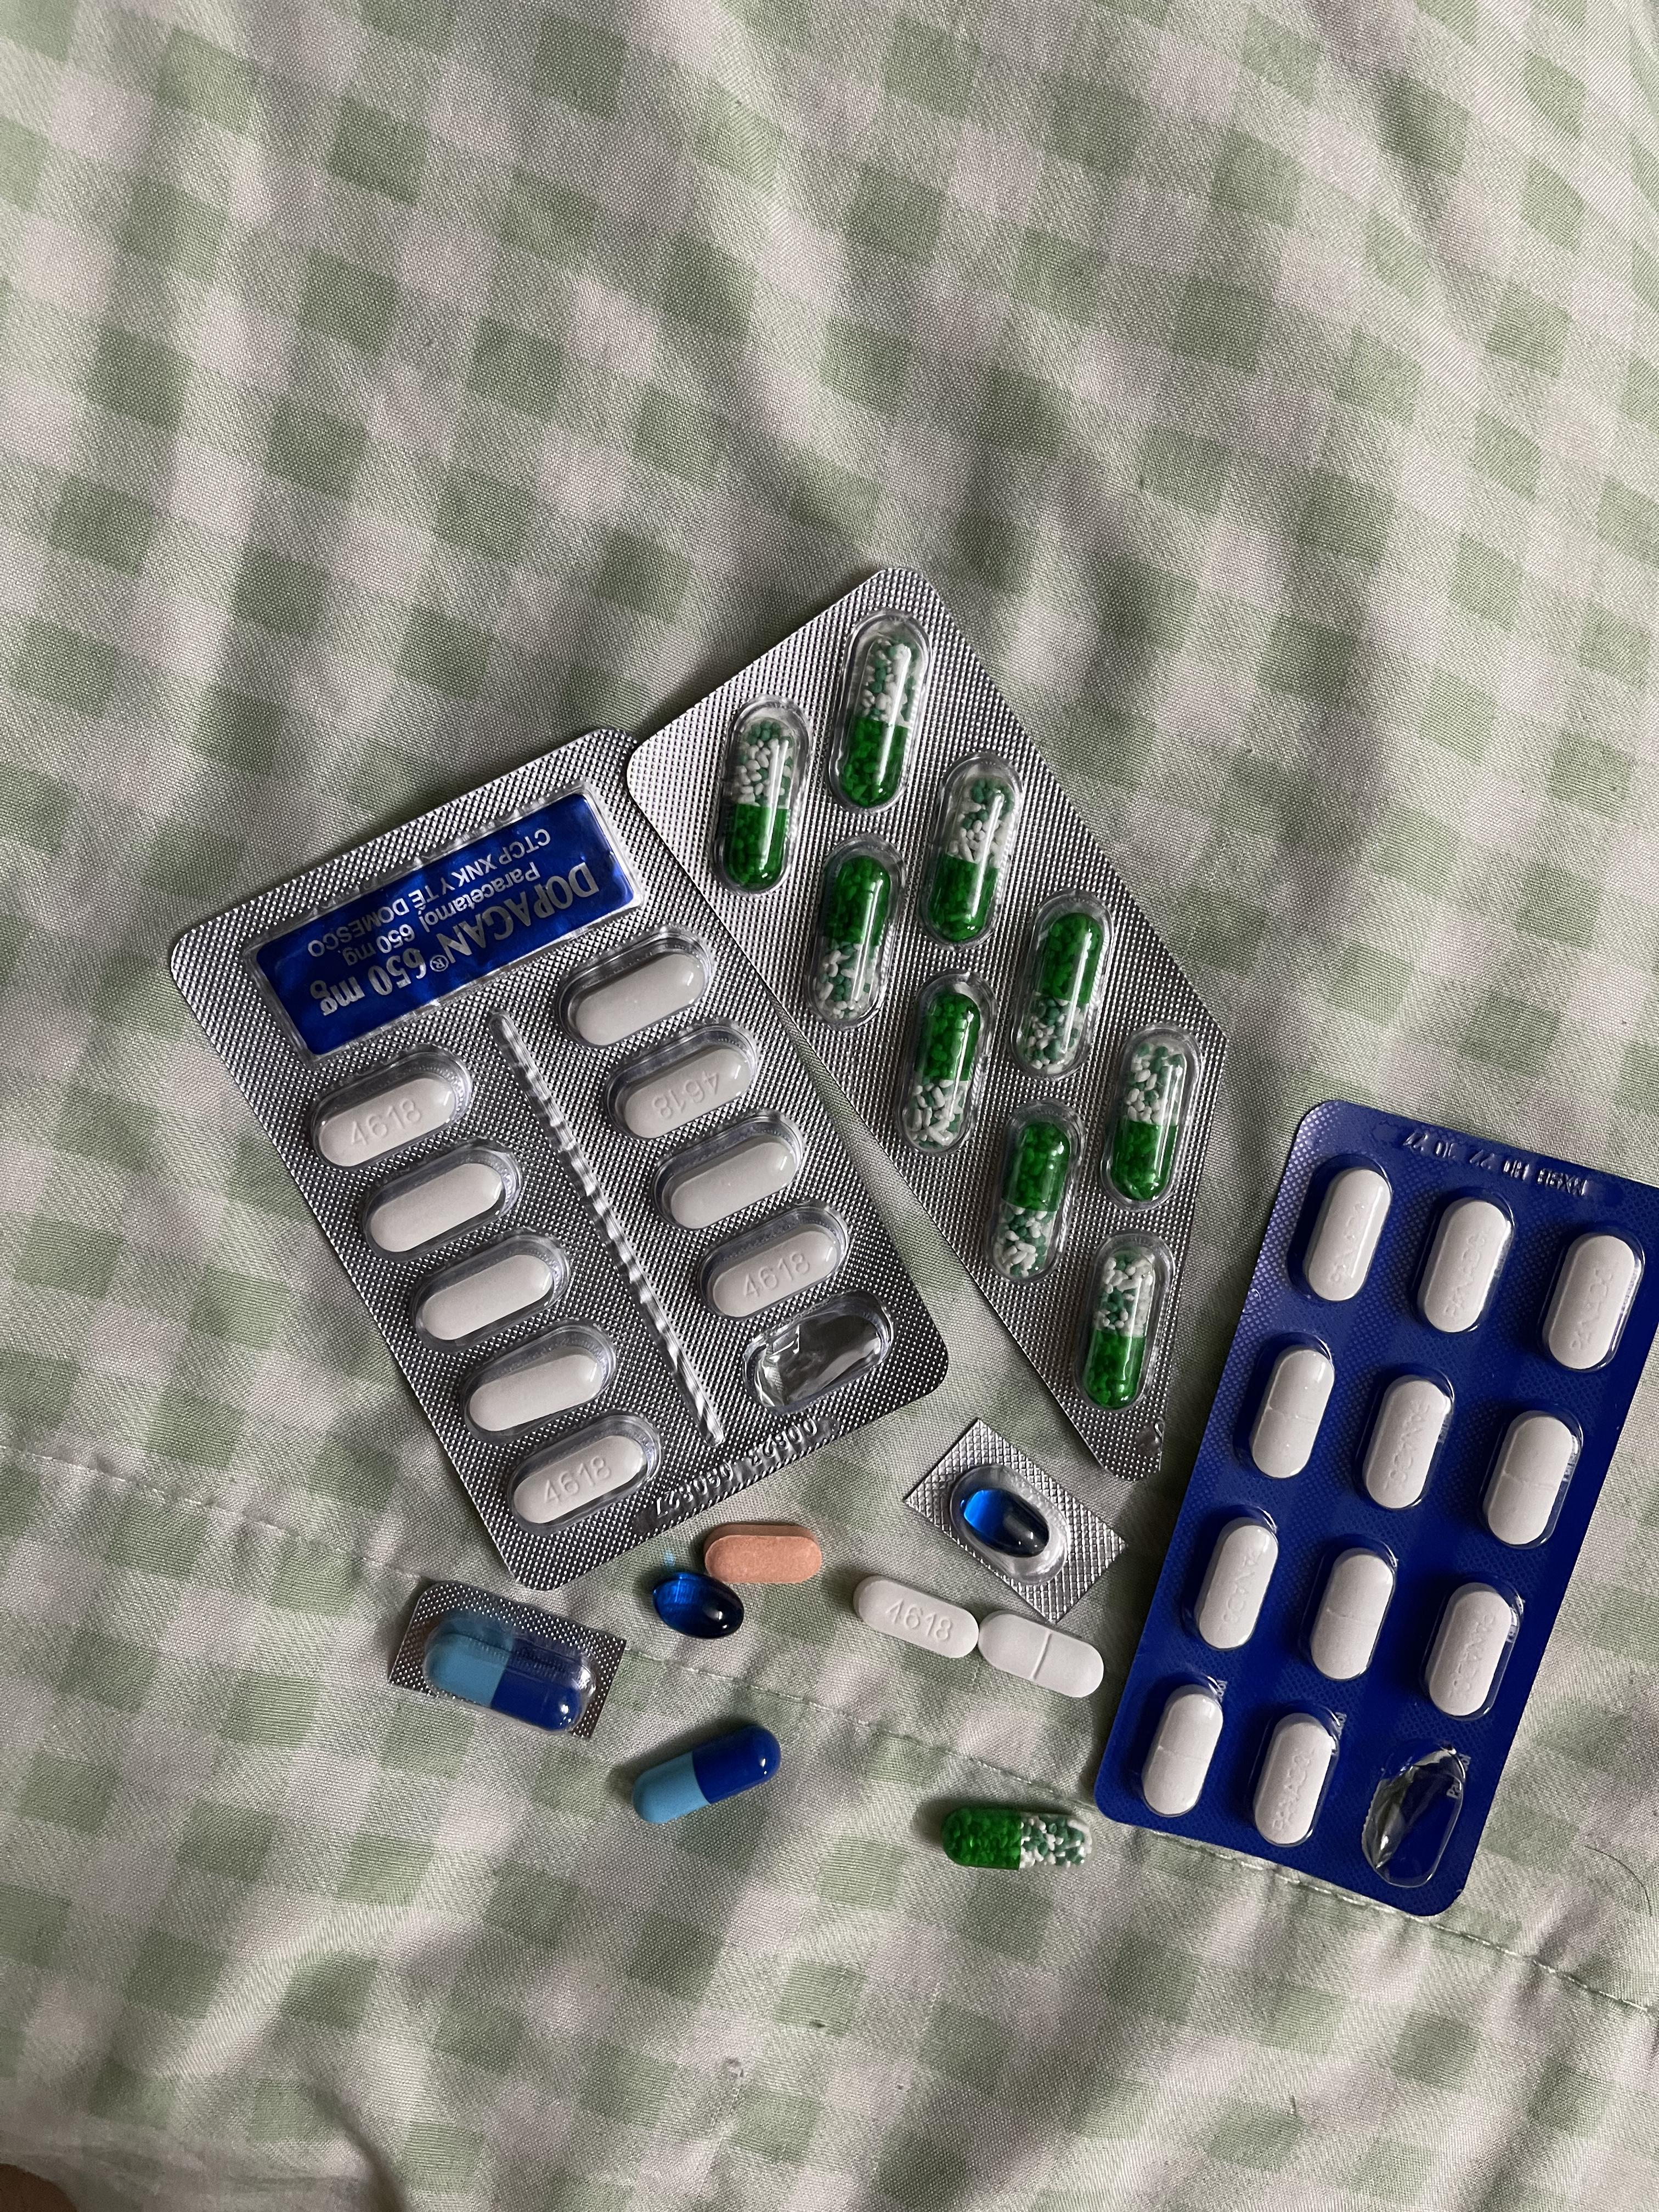Lincomyxin_500mg: (652, 1571, 748, 1641), (966, 1487, 1050, 1556)
Loratadine_10mg: (700, 1522, 815, 1584)
Paracetamol_350mg: (1542, 1233, 1647, 1374), (1416, 1194, 1515, 1335), (1483, 1409, 1582, 1550), (1424, 1583, 1521, 1724), (1359, 1372, 1453, 1514), (1301, 1165, 1395, 1304), (1251, 1709, 1341, 1853), (1307, 1544, 1398, 1685), (1247, 1341, 1335, 1482), (1193, 1515, 1277, 1654), (1141, 1680, 1220, 1824), (979, 1613, 1103, 1702)
Paracetamol_500mg: (308, 1042, 477, 1172), (601, 1015, 767, 1144), (493, 1410, 663, 1526), (703, 1194, 851, 1324), (366, 1159, 515, 1259), (664, 1132, 802, 1235), (413, 1251, 556, 1344), (569, 952, 706, 1046), (471, 1349, 610, 1433), (853, 1575, 974, 1661)
Paracetamol_650mg: (931, 776, 1012, 948), (843, 636, 919, 808), (1021, 914, 1099, 1077), (726, 711, 794, 888), (817, 856, 891, 1018), (906, 991, 981, 1147), (1108, 1044, 1182, 1196), (997, 1121, 1070, 1266), (1084, 1254, 1152, 1399), (941, 1804, 1086, 1872)
pill: (417, 1606, 595, 1731), (628, 1723, 785, 1826)
